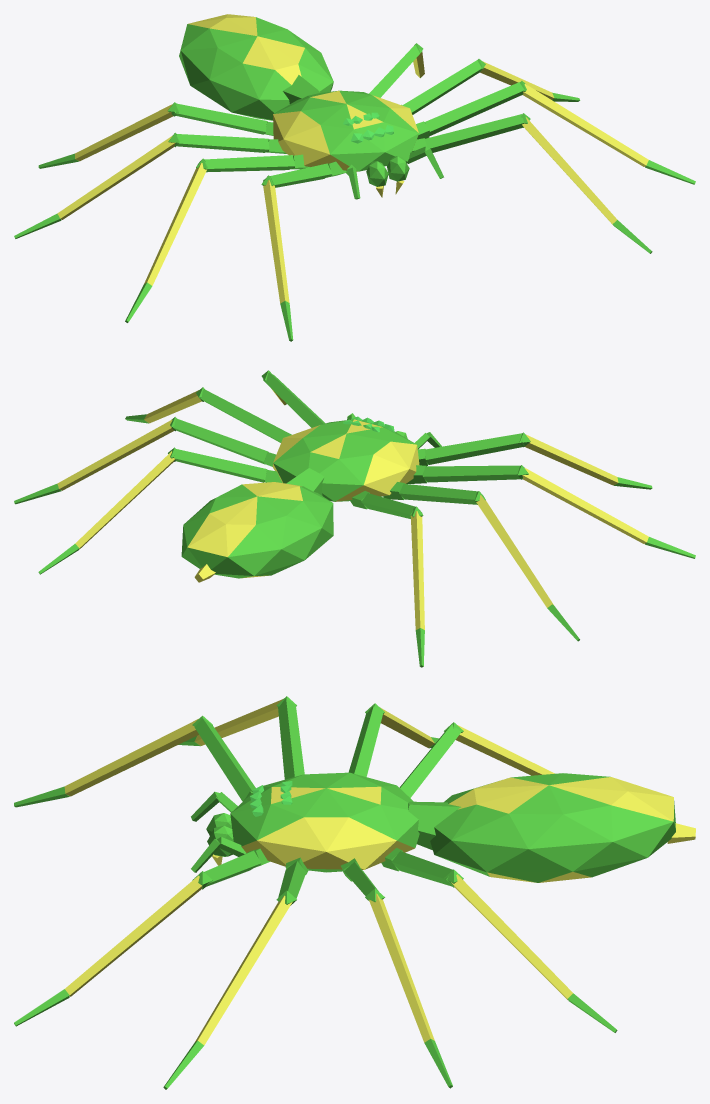
Rendered from huntsman.glb.
The picture shows the model from 3 angles, top to bottom: view 1: azimuth 30°, elevation 25°; view 2: azimuth 150°, elevation 25°; view 3: azimuth 270°, elevation 25°; orthographic projection. The views are drawn at different scales.
Parts seen in each view (by area): view 1: abdomen, body, leg_L2_lower, leg_R3_lower, leg_R1_lower, leg_L2_upper, leg_R2_lower, leg_L1_upper, leg_R4_lower, leg_R3_upper, leg_L1_lower, leg_R2_upper (+6 smaller); view 2: abdomen, body, leg_R2_lower, leg_L3_lower, leg_R2_upper, leg_R1_upper, leg_R4_lower, leg_L4_lower, leg_R1_lower, leg_R3_lower, leg_L4_upper, leg_L3_upper (+5 smaller); view 3: abdomen, body, leg_L1_lower, leg_L2_lower, leg_R1_lower, leg_L3_lower, leg_L4_lower, leg_R1_upper, leg_R2_upper, leg_R4_lower, leg_L4_upper, leg_R3_upper (+8 smaller).
Boxes of the visible parts, left/top/right/bottom form: abdomen: left=179, top=14, right=333, bottom=120; body: left=273, top=90, right=418, bottom=171; leg_L2_lower: left=520, top=81, right=695, bottom=184; leg_R3_lower: left=14, top=132, right=179, bottom=238; leg_R1_lower: left=261, top=175, right=293, bottom=341; leg_L2_upper: left=416, top=82, right=524, bottom=139; leg_R2_lower: left=125, top=158, right=207, bottom=322; leg_L1_upper: left=412, top=114, right=524, bottom=152; leg_R4_lower: left=38, top=102, right=178, bottom=168; leg_R3_upper: left=176, top=134, right=286, bottom=153; leg_L1_lower: left=521, top=113, right=652, bottom=253; leg_R2_upper: left=204, top=154, right=309, bottom=172; abdomen: left=181, top=468, right=333, bottom=582; body: left=272, top=416, right=419, bottom=501; leg_R2_lower: left=517, top=465, right=695, bottom=558; leg_L3_lower: left=14, top=417, right=176, bottom=504; leg_R2_upper: left=406, top=465, right=522, bottom=483; leg_R1_upper: left=417, top=433, right=524, bottom=466; leg_R4_lower: left=410, top=506, right=424, bottom=667; leg_L4_lower: left=38, top=447, right=176, bottom=574; leg_R1_lower: left=519, top=432, right=652, bottom=489; leg_R3_lower: left=474, top=491, right=579, bottom=641; leg_L4_upper: left=174, top=449, right=282, bottom=482; leg_L3_upper: left=173, top=418, right=275, bottom=466; abdomen: left=408, top=773, right=695, bottom=882; body: left=230, top=772, right=419, bottom=872; leg_L1_lower: left=14, top=871, right=212, bottom=1026; leg_L2_lower: left=163, top=890, right=296, bottom=1089; leg_R1_lower: left=14, top=715, right=212, bottom=807; leg_L3_lower: left=365, top=888, right=452, bottom=1088; leg_L4_lower: left=444, top=869, right=617, bottom=1032; leg_R1_upper: left=194, top=718, right=255, bottom=801; leg_R2_upper: left=278, top=698, right=304, bottom=779; leg_R4_lower: left=444, top=722, right=554, bottom=775; leg_L4_upper: left=381, top=848, right=453, bottom=886; leg_R3_upper: left=348, top=705, right=383, bottom=776.
Bounding box in the file's own units: 6.6 × 1.17 × 5.47.
